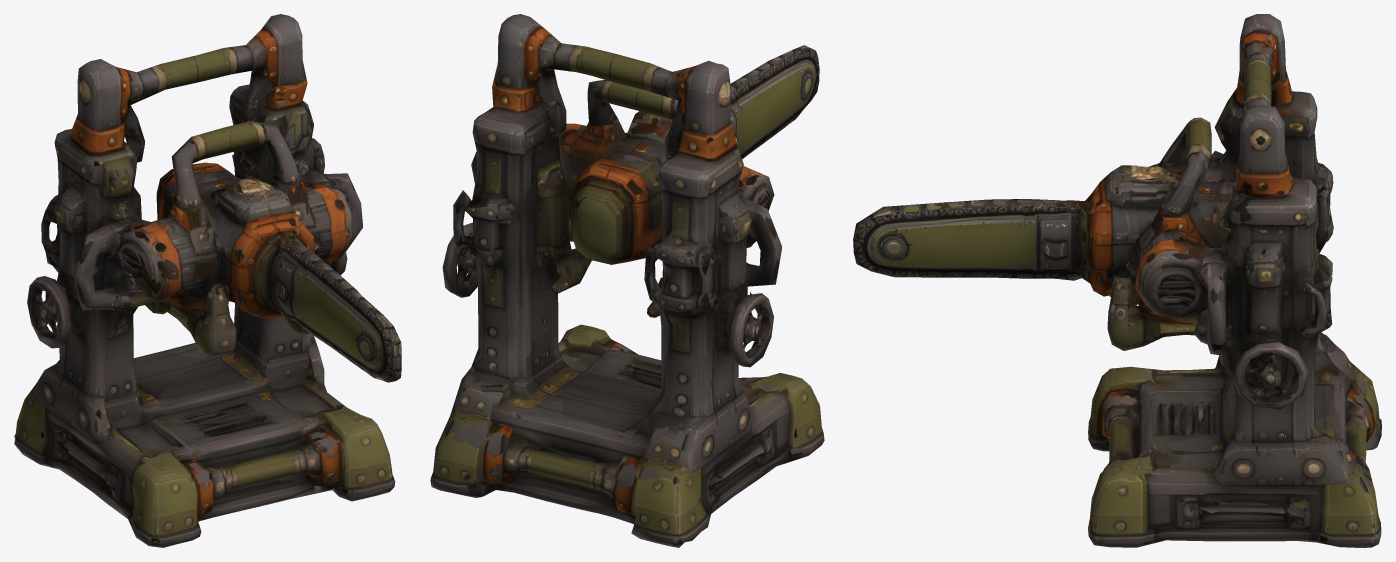
The model's file is Chainsow.fbx.
The picture shows the model from 3 angles, left to right: view 1: azimuth 30°, elevation 25°; view 2: azimuth 150°, elevation 25°; view 3: azimuth 270°, elevation 25°; orthographic projection. The views are drawn at different scales.
Visible parts, largest first — view 1: tripo_node_ecdce9a6; view 2: tripo_node_ecdce9a6; view 3: tripo_node_ecdce9a6.
Part boxes in pixels (x1,y1,x2,y2): tripo_node_ecdce9a6: (14, 14, 401, 547); tripo_node_ecdce9a6: (430, 14, 824, 547); tripo_node_ecdce9a6: (853, 14, 1381, 547).
Size of the model in its own units: 0.6412 by 0.8829 by 0.9894.
